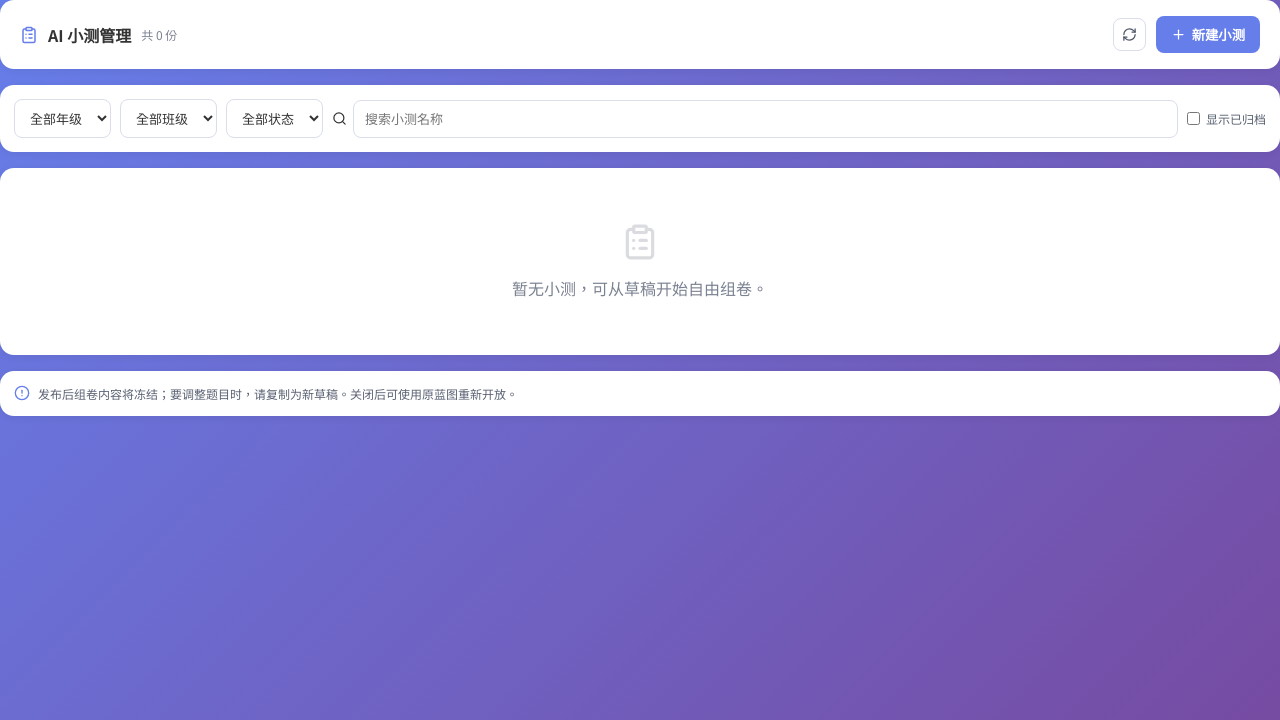
AIQuizzesTab Step 8 › 显示题池不足并阻止保存错误配置
Click the button "新建小测": [1208, 34] box [1156,16,1260,53]
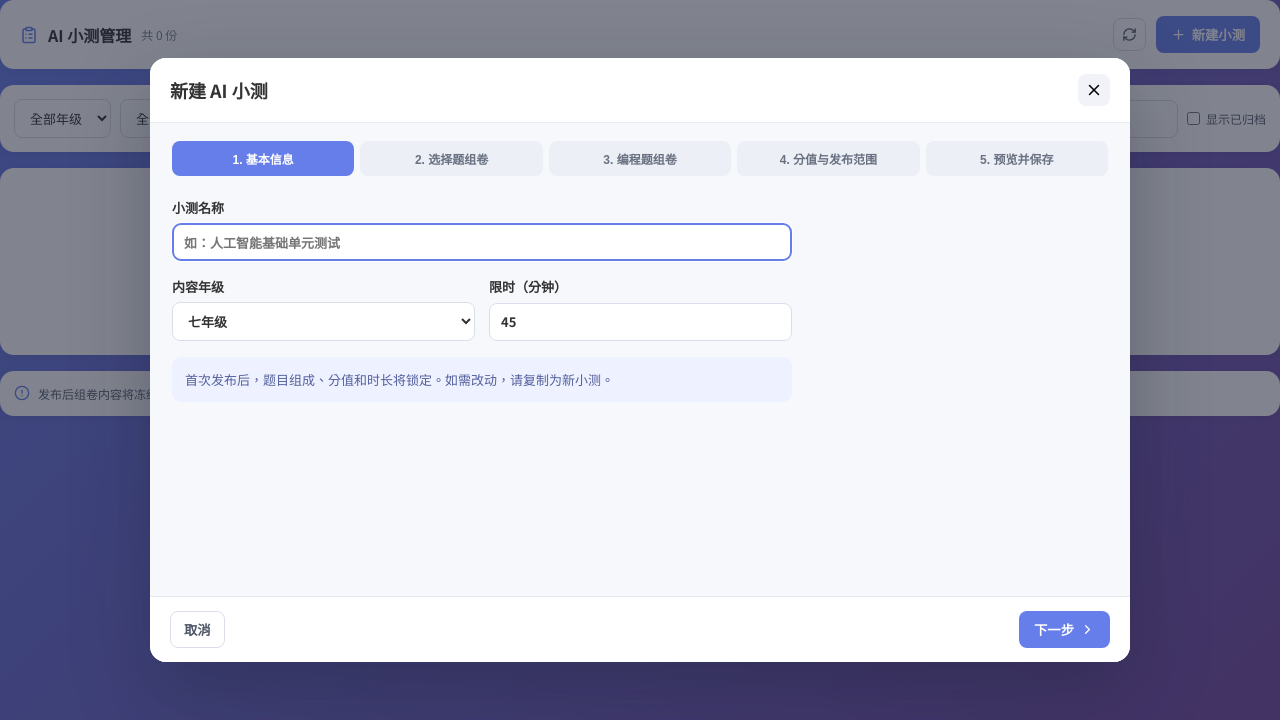
Click the button "5. 预览并保存": [1017, 158] box [926,141,1108,176]
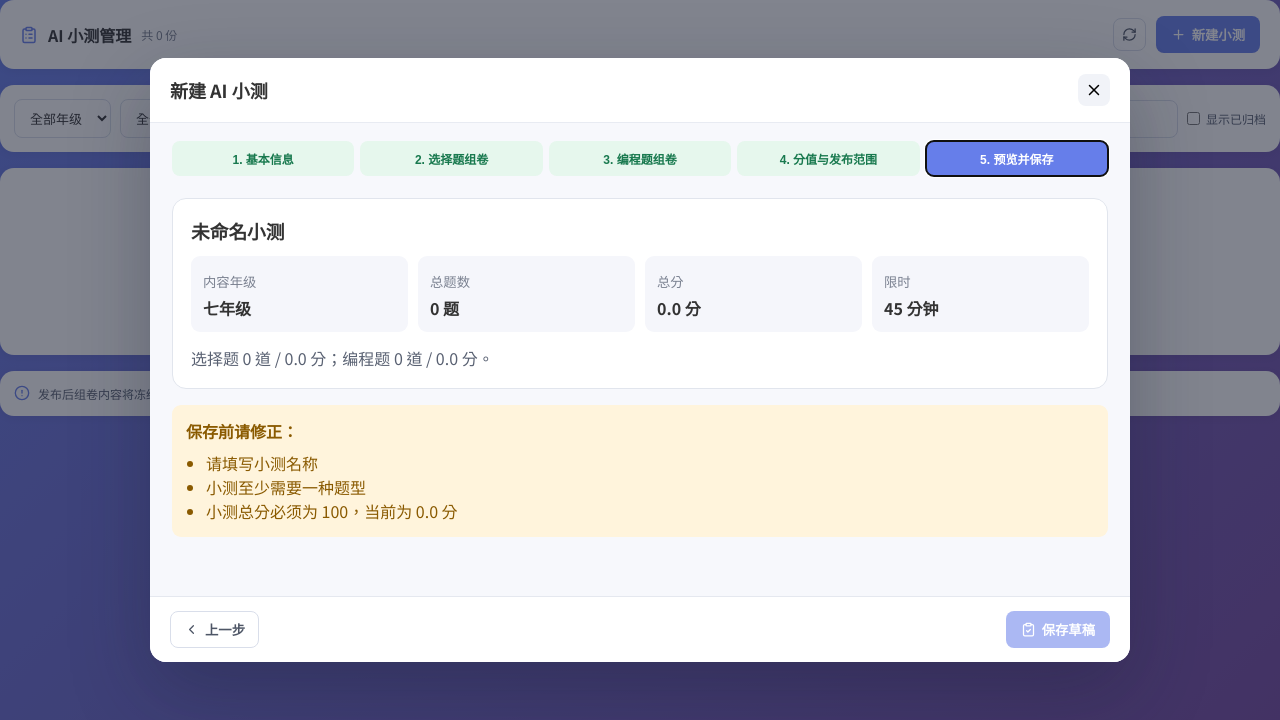
Check: the message shows "请填写小测名称", box [206,451,318,475]
Check: the button "保存草稿" is disabled, box [1006,611,1110,648]
